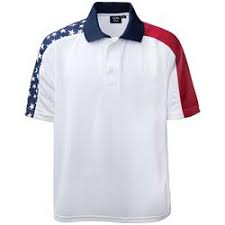S_polo shirt: (20, 9, 198, 223)
